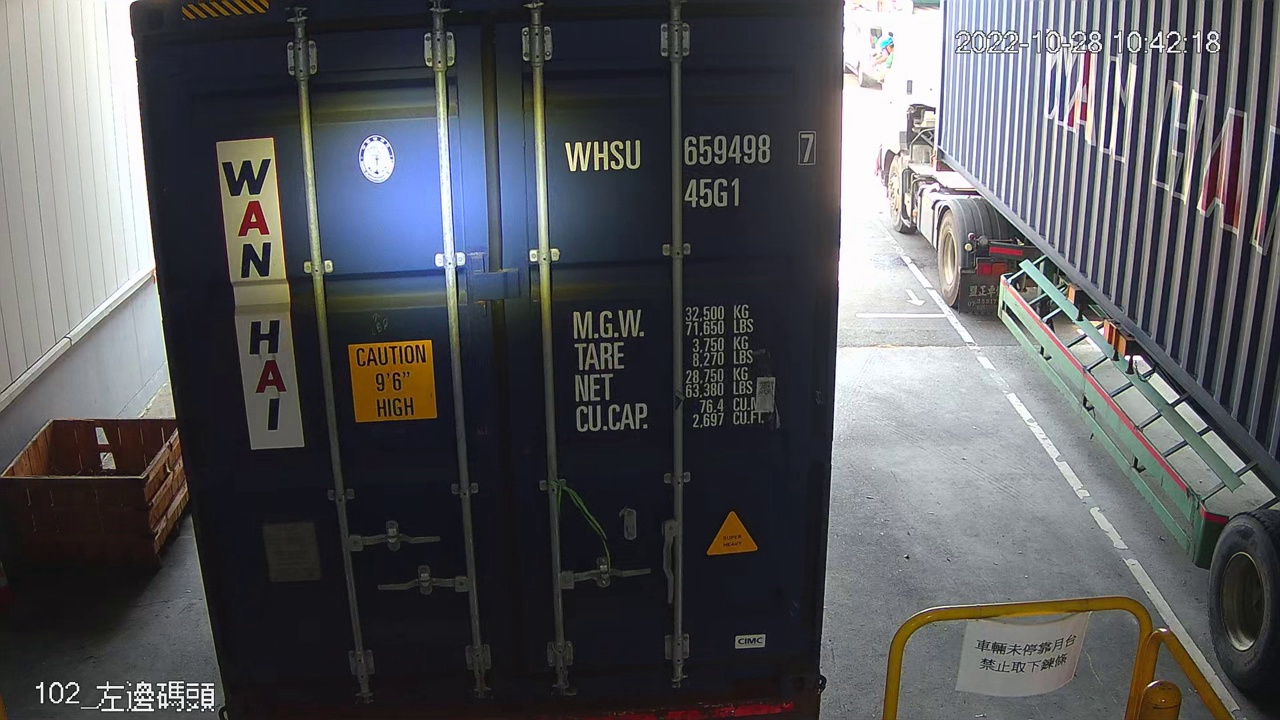container: (560, 125, 822, 218)
